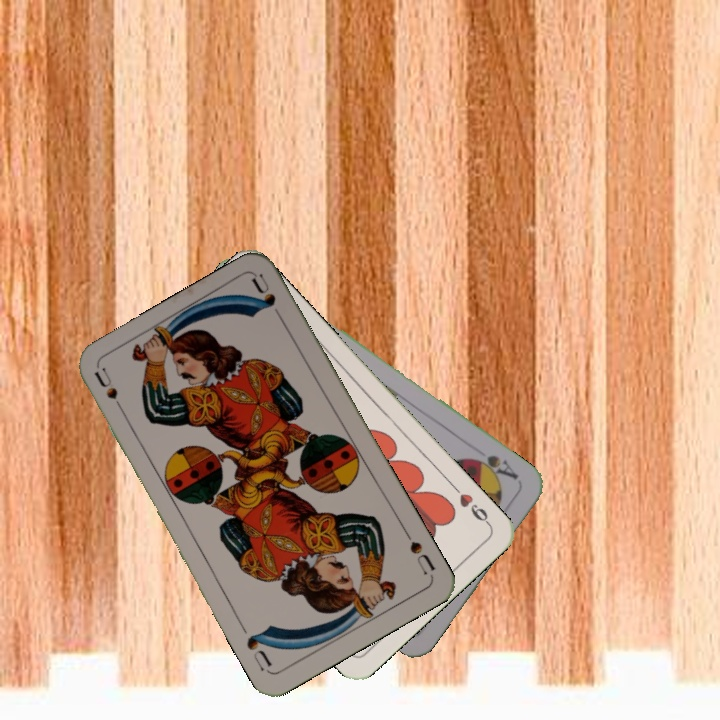H9: (449, 481, 494, 529)
SA: (467, 450, 524, 487)
SU: (90, 364, 130, 420), (399, 525, 438, 579)
